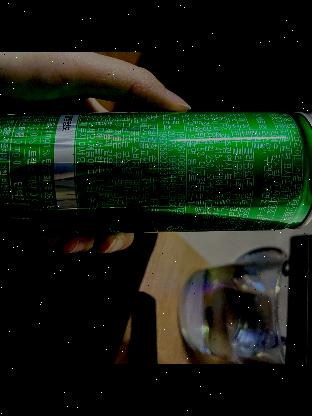Can: (0, 112, 312, 236)
